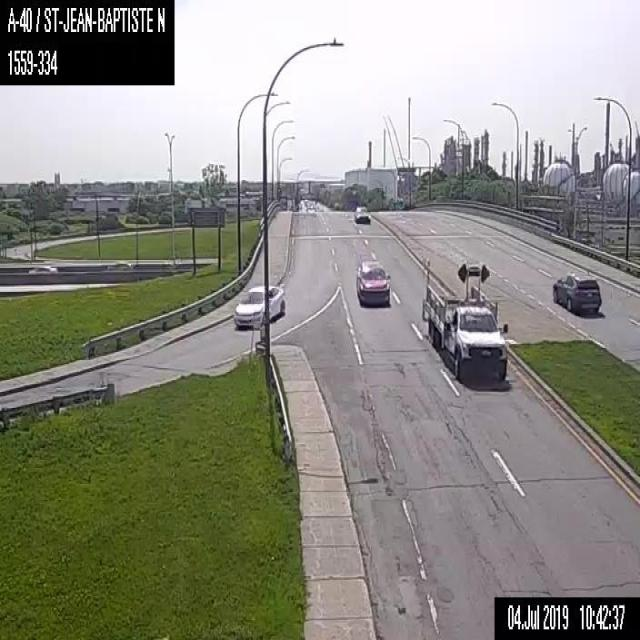vehicle: (421, 258, 508, 382), (232, 284, 284, 328), (552, 272, 602, 313), (355, 257, 390, 304), (107, 258, 134, 270), (354, 202, 370, 222), (28, 264, 58, 273), (266, 284, 266, 285)
